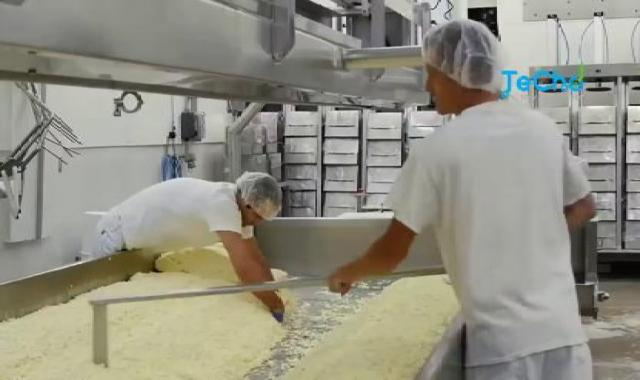hairnet: (416, 18, 512, 103), (232, 171, 288, 228)
